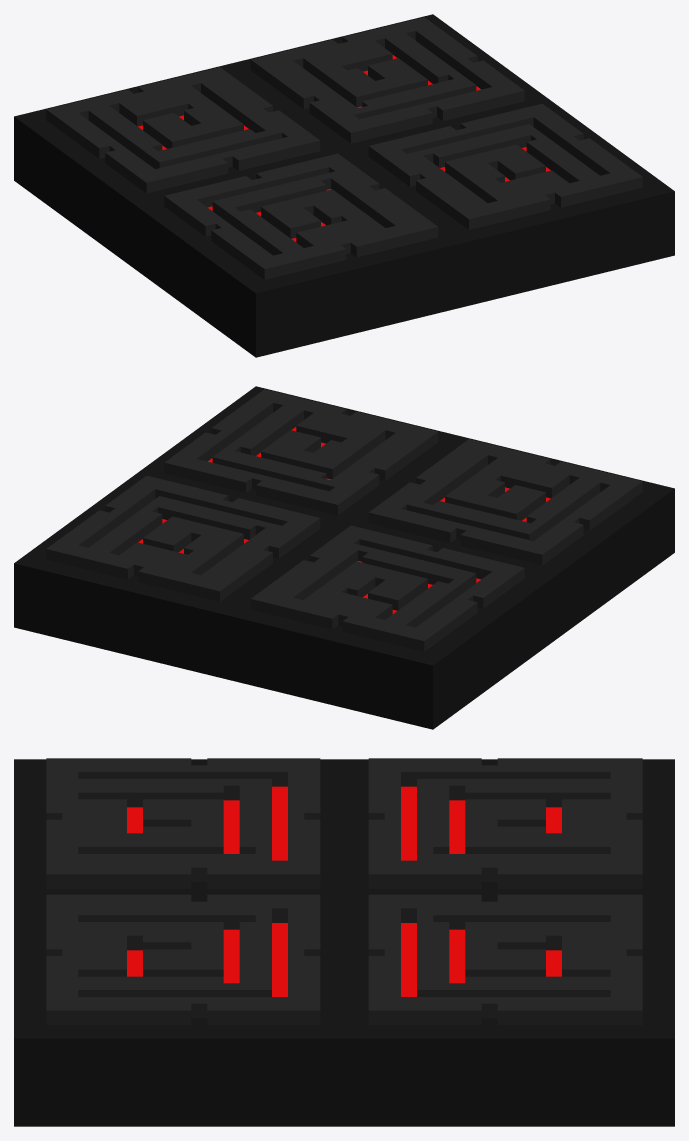
File: RuneFloor1.obj
The picture shows the model from 3 angles, top to bottom: view 1: azimuth 30°, elevation 25°; view 2: azimuth 150°, elevation 25°; view 3: azimuth 270°, elevation 25°; orthographic projection. The views are drawn at different scales.
Size of the model in its own units: 41 by 7 by 41.
1 material, 1 textured.
